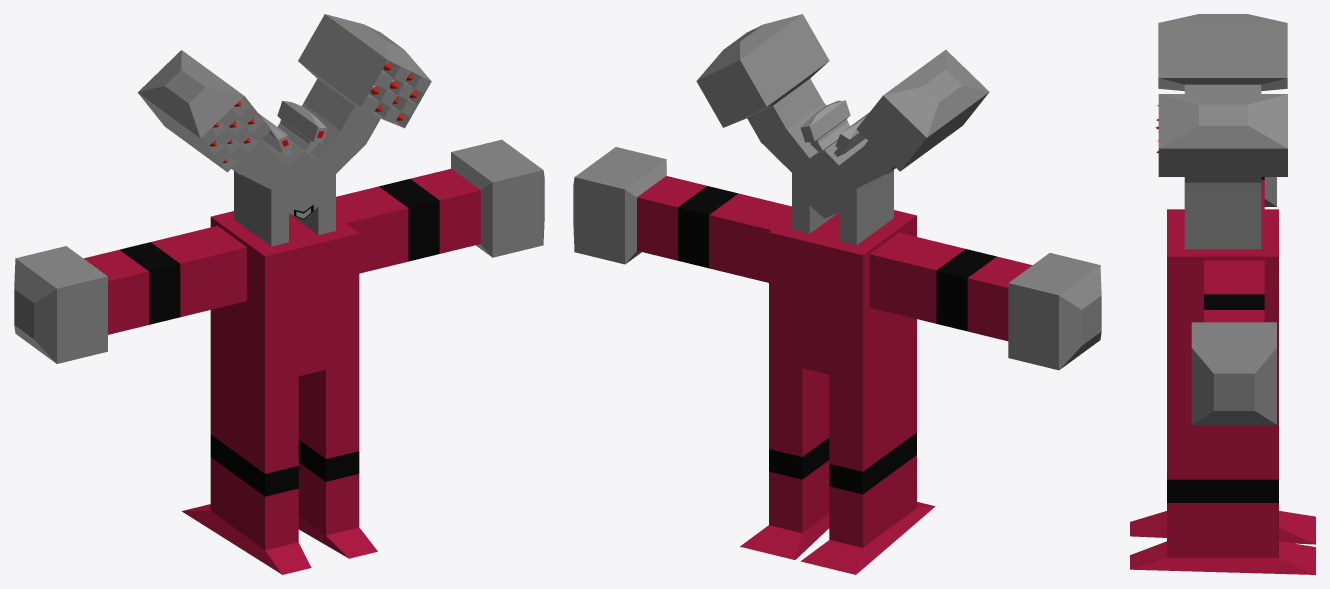
Rendered from rocket_tower.fbx.
3 renders of one model, left to right at view 1: azimuth 30°, elevation 25°; view 2: azimuth 150°, elevation 25°; view 3: azimuth 270°, elevation 25°, orthographic. The views are drawn at different scales.
Visible parts, largest first — view 1: Body, rockets2, rockets1; view 2: Body, rockets2, rockets1; view 3: Body, rockets2, rockets1.
Boxes of the visible parts, x1,y1,x2,y2 form: Body: (14, 100, 544, 574); rockets2: (298, 14, 431, 143); rockets1: (138, 50, 271, 174); Body: (573, 100, 1101, 574); rockets2: (696, 14, 829, 142); rockets1: (856, 49, 989, 173); Body: (1130, 177, 1315, 574); rockets2: (1155, 94, 1287, 182); rockets1: (1158, 14, 1287, 93).
Bounding box in the file's own units: 1083 × 963 × 333.
